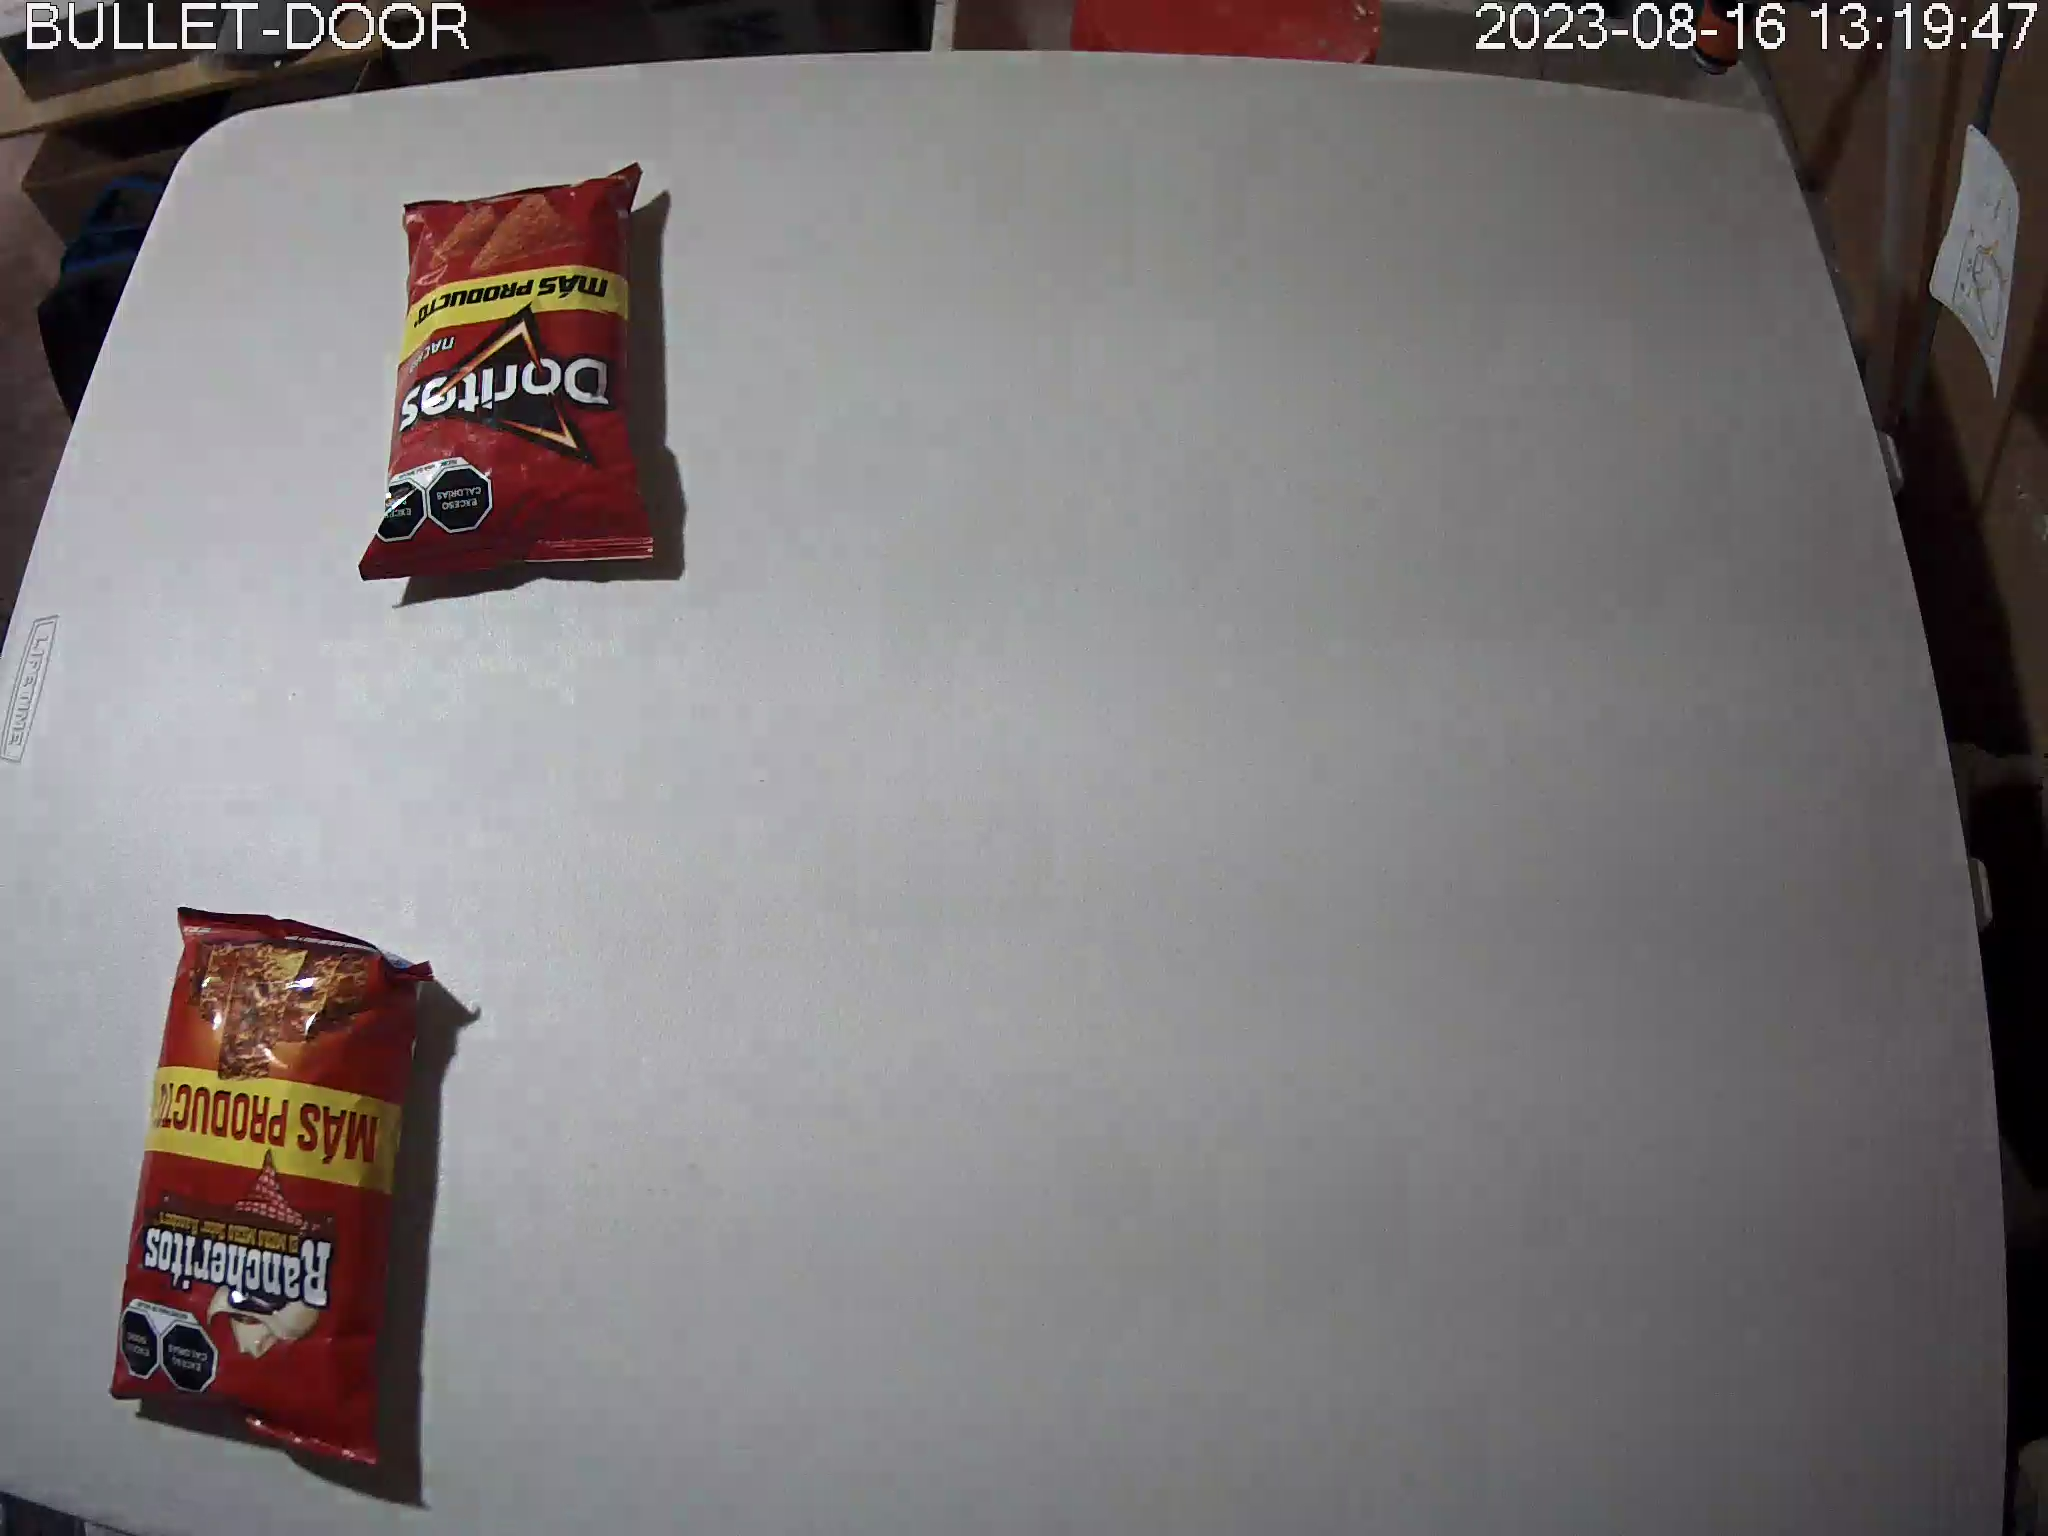DoritosN_61_F: (360, 161, 656, 584)
Rancheritos_58_F: (110, 907, 437, 1476)
